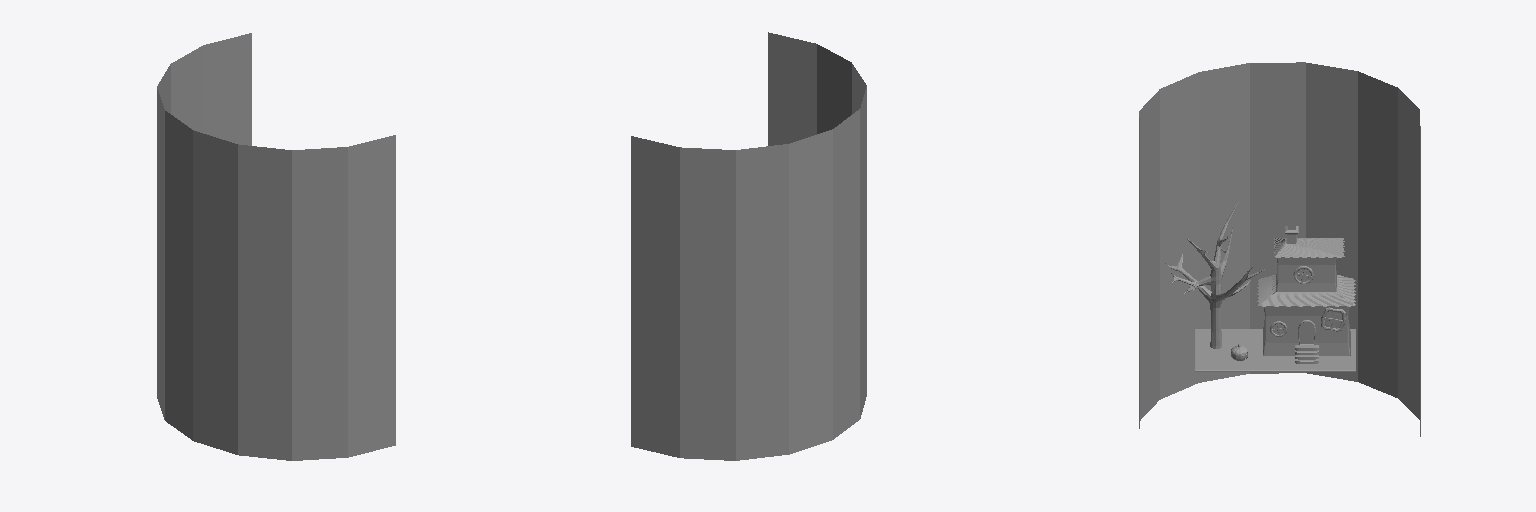
The model's file is HalloweenHouse_obj.obj.
The picture shows the model from 3 angles: view 1: azimuth 30°, elevation 25°; view 2: azimuth 150°, elevation 25°; view 3: azimuth 270°, elevation 25°; orthographic projection.
Parts seen in each view (by area): view 1: Cylinder; view 2: Cylinder; view 3: Cylinder, Cube.001.
Boxes of the visible parts, <box> form: Cylinder: <box>157,33,395,460</box>; Cylinder: <box>631,32,866,460</box>; Cylinder: <box>1139,62,1420,436</box>; Cube.001: <box>1165,202,1355,371</box>.
Size of the model in its own units: 18.88 by 35.91 by 29.46.